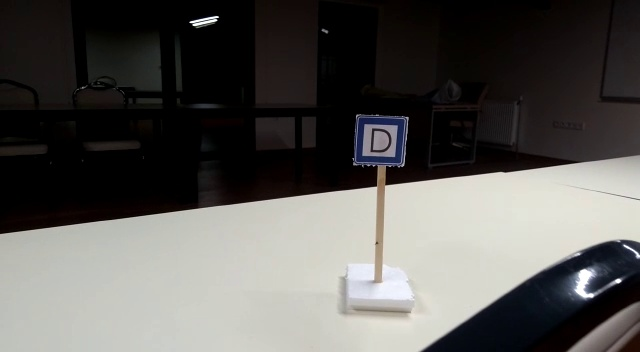durak: (352, 115, 407, 166)
